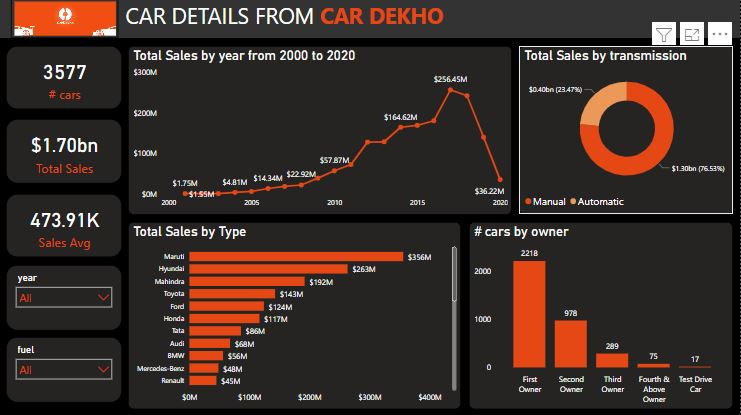

The page's visual inventory and layout, read from the dashboard file:
{"tool":"powerbi","page":{"name":"Page 1","canvas":[1280,720],"ordinal":0},"visuals":[{"type":"textbox","box":[0,0,1280,69],"z":0},{"type":"card","fields":{"Values":["Dax measures.Total Sales"]},"box":[13.4,208.3,199.9,110.9],"z":1000},{"type":"card","fields":{"Values":["Dax measures.Sales Avg"]},"box":[13.4,337.6,199.9,109.2],"z":2000},{"type":"lineChart","title":"Total Sales by year from 2000 to 2020","fields":{"Category":["CAR DETAILS.year"],"Y":["Dax measures.Total Sales"]},"box":[225.1,82.3,661.8,290.6],"z":3000},{"type":"donutChart","fields":{"Y":["Dax measures.Total Sales"],"Category":["CAR DETAILS.transmission"]},"box":[898.7,82.3,369.6,290.6],"z":4000},{"type":"clusteredBarChart","fields":{"Category":["CAR DETAILS.Type"],"Y":["Dax measures.Total Sales"]},"box":[225.1,386.4,574.5,322.5],"z":5000},{"type":"columnChart","fields":{"Category":["CAR DETAILS.owner"],"Y":["Dax measures.# cars"]},"box":[813,386.4,455.2,322.5],"z":6000},{"type":"card","fields":{"Values":["Dax measures.# cars"]},"box":[13.4,82.3,199.9,109.2],"z":7000},{"type":"slicer","fields":{"Values":["CAR DETAILS.year"]},"box":[13.4,460.3,199.9,112.5],"z":8000},{"type":"slicer","fields":{"Values":["CAR DETAILS.fuel"]},"box":[13.4,584.6,199.9,112.5],"z":9000},{"type":"image","box":[21.8,0,184.8,68.9],"z":10000}]}

Visuals, with their boxes in screenshot pixels (x1, y1, x2, y2), scaled from the page's 1280x720 canvas onto the 741x415 screenshot:
textbox: [0,0,740,40]
card - Dax measures.Total Sales: [8,120,123,184]
card - Dax measures.Sales Avg: [8,195,123,258]
"Total Sales by year from 2000 to 2020" lineChart: [130,47,513,215]
donutChart - Dax measures.Total Sales x CAR DETAILS.transmission: [520,47,734,215]
clusteredBarChart - CAR DETAILS.Type x Dax measures.Total Sales: [130,223,463,409]
columnChart - CAR DETAILS.owner x Dax measures.# cars: [471,223,734,409]
card - Dax measures.# cars: [8,47,123,110]
slicer - CAR DETAILS.year: [8,265,123,330]
slicer - CAR DETAILS.fuel: [8,337,123,402]
image: [13,0,120,40]
